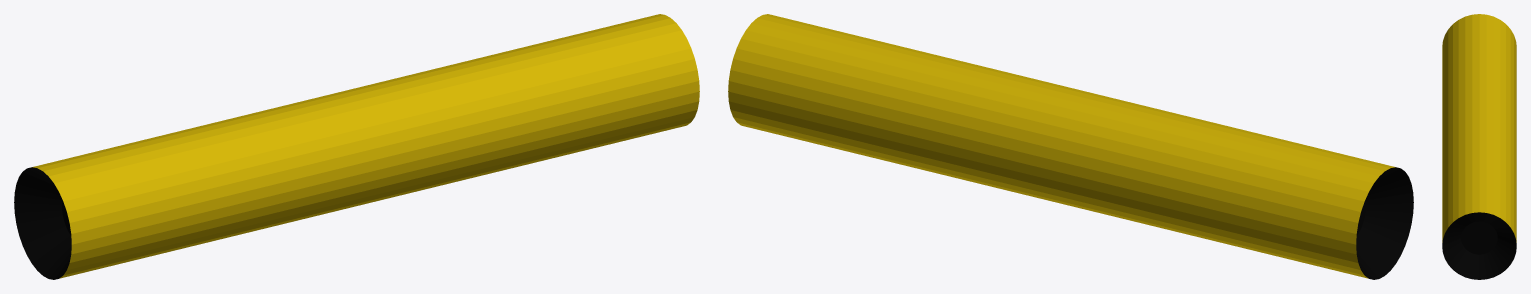
File: launcher.fbx
3 renders of one model, left to right at view 1: azimuth 30°, elevation 25°; view 2: azimuth 150°, elevation 25°; view 3: azimuth 270°, elevation 25°, orthographic. The views are drawn at different scales.
Parts seen in each view (by area): view 1: Cylinder.002; view 2: Cylinder.002; view 3: Cylinder.002.
Part boxes in pixels (box(x1,y1,x2,y2)): Cylinder.002: box(14, 14, 699, 279); Cylinder.002: box(728, 14, 1413, 279); Cylinder.002: box(1442, 14, 1516, 279).
Size of the model in its own units: 2863 by 456 by 456.
